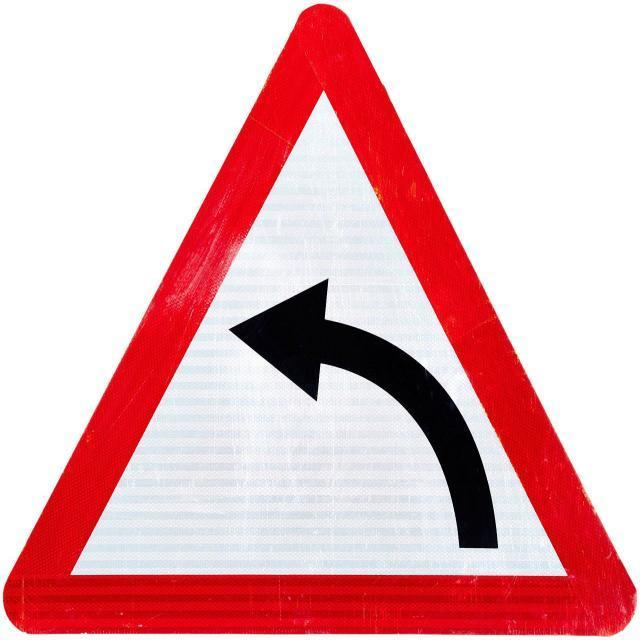left hand curve: (26, 19, 618, 620)
